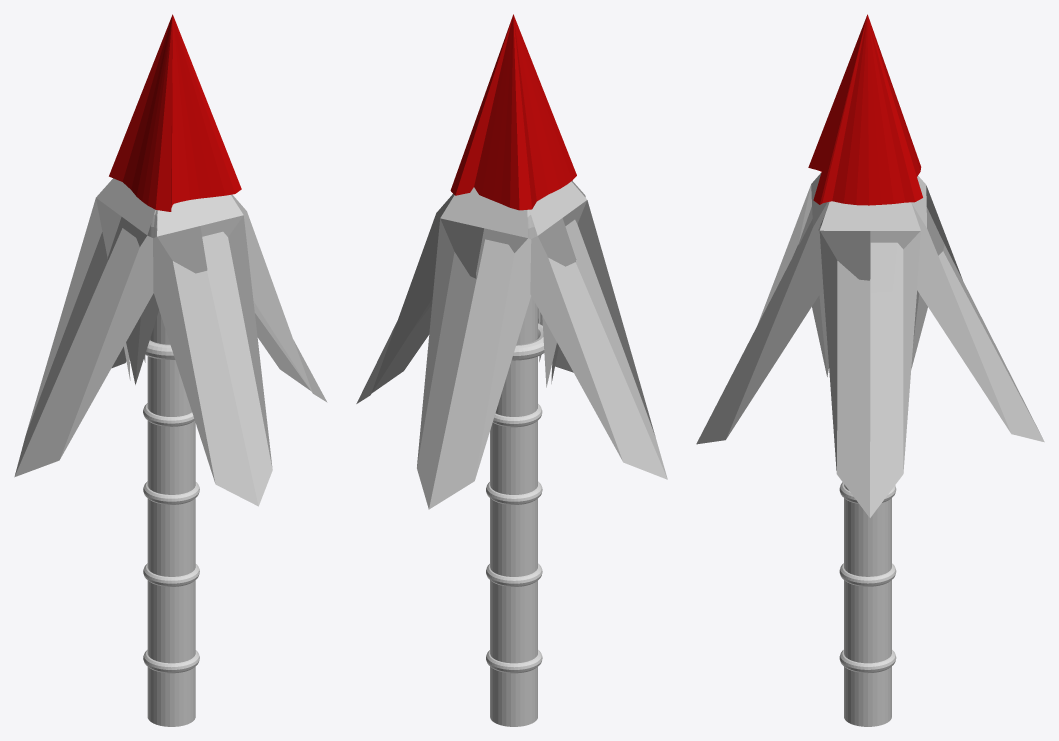
Rendered from Grapplehook.fbx.
3 views of the same model, side by side, from view 1: azimuth 30°, elevation 25°; view 2: azimuth 150°, elevation 25°; view 3: azimuth 270°, elevation 25° (orthographic).
Parts seen in each view (by area): view 1: Plane, Plane.003, Cylinder.001, Cone, Plane.002, Torus.005, Torus.004, Torus.001, Torus.002; view 2: Plane.001, Plane.003, Cylinder.001, Cone, Plane.002, Torus.005, Torus.004, Torus.001, Torus.003, Torus.002; view 3: Plane.002, Cone, Plane, Cylinder.001, Plane.001, Torus.004, Torus.005.
Boxes of the visible parts, x1,y1,x2,y2 form: Plane: (153,195,272,506); Plane.003: (14,178,158,477); Cylinder.001: (147,310,195,726); Cone: (109,14,241,211); Plane.002: (231,194,327,402); Torus.005: (143,650,199,673); Torus.004: (143,563,199,586); Torus.001: (143,481,199,504); Torus.002: (143,403,194,426); Plane.001: (417,187,531,509); Plane.003: (529,181,667,479); Cylinder.001: (490,296,537,726); Cone: (450,14,576,210); Plane.002: (356,194,454,403); Torus.005: (486,650,542,673); Torus.004: (486,563,542,586); Torus.001: (486,481,542,504); Torus.003: (512,323,544,360); Torus.002: (493,404,542,427); Plane.002: (819,201,920,517); Cone: (808,14,922,205); Plane: (696,172,829,444); Cylinder.001: (844,484,891,726); Plane.001: (911,176,1044,442); Torus.004: (839,563,896,586); Torus.005: (839,650,896,673).
Bounding box in the file's own units: 513 × 1103 × 496.
